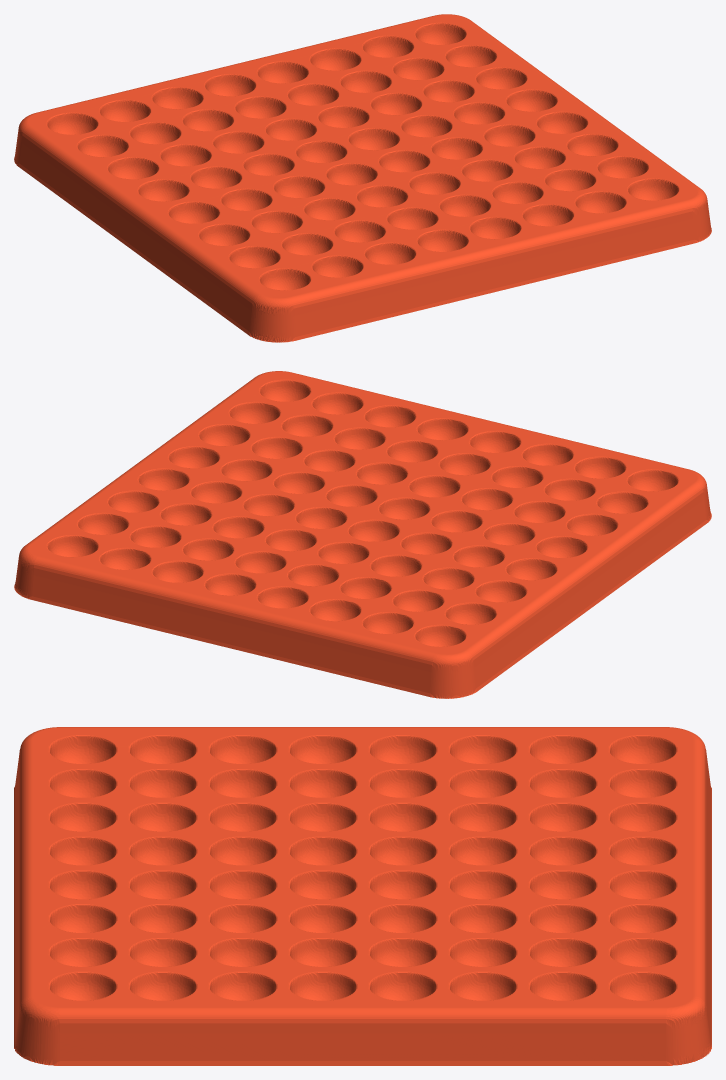
The model's file is mold.glb.
3 views of the same model, one above another, from view 1: azimuth 30°, elevation 25°; view 2: azimuth 150°, elevation 25°; view 3: azimuth 270°, elevation 25° (orthographic). The views are drawn at different scales.
Visible parts, largest first — view 1: geometry_0; view 2: geometry_0; view 3: geometry_0.
Boxes of the visible parts, x1,y1,x2,y2 form: geometry_0: [14, 14, 711, 342]; geometry_0: [14, 371, 711, 698]; geometry_0: [14, 727, 711, 1065].
Size of the model in its own units: 0.1355 by 0.0108 by 0.1355.
